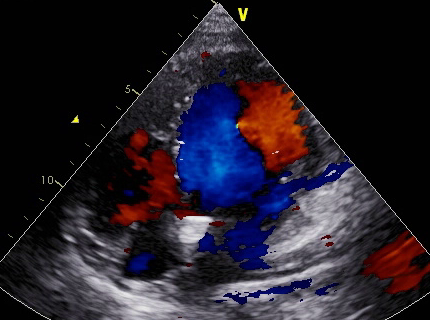MR: (198, 173, 299, 259)
